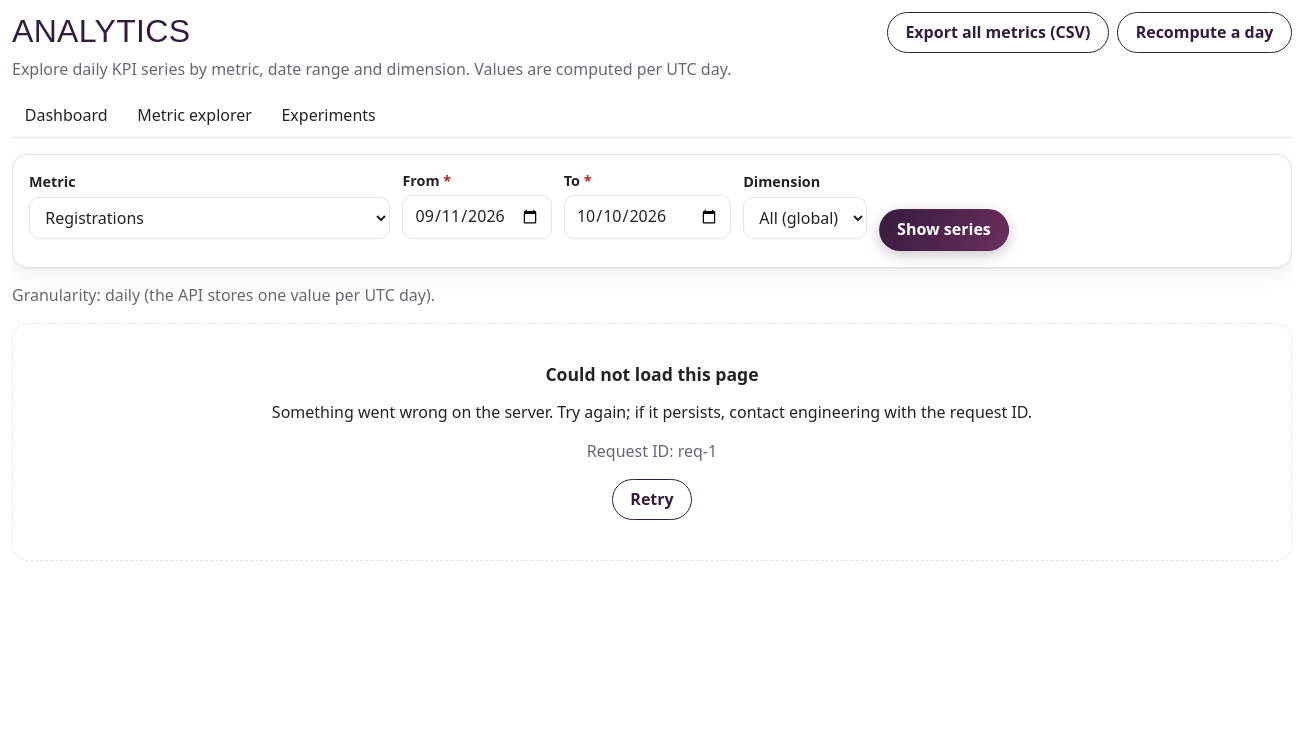
Test case: MetricsExplorerPage › shows empty and error states with retry
The width and height of the screenshot is (1304, 732).
Expected: the text "Something went wrong on the server. Try again; if it persists, contact engineering with the request ID." is shown, [272, 401, 1032, 423]
Click the button "Retry" at (652, 500), box [612, 479, 692, 520]
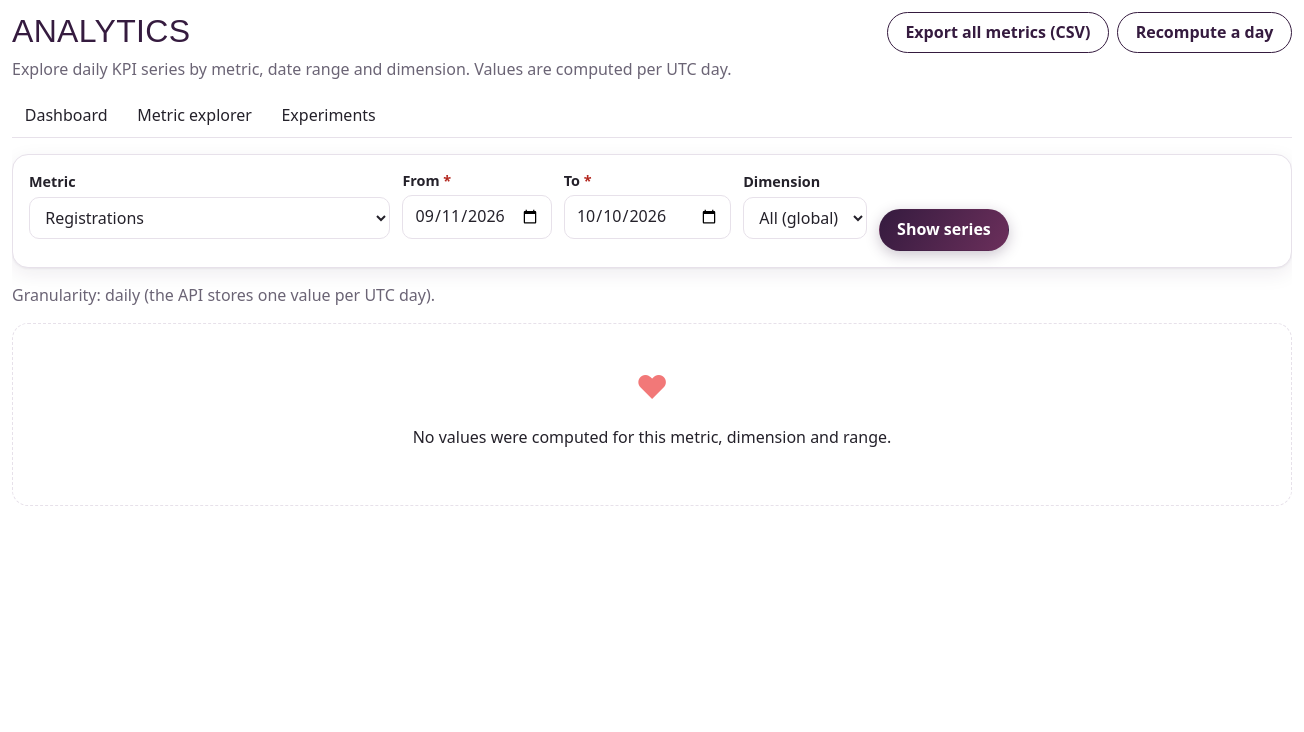
Expected: the text "No values were computed for this metric, dimension and range." is shown, [413, 426, 891, 448]
